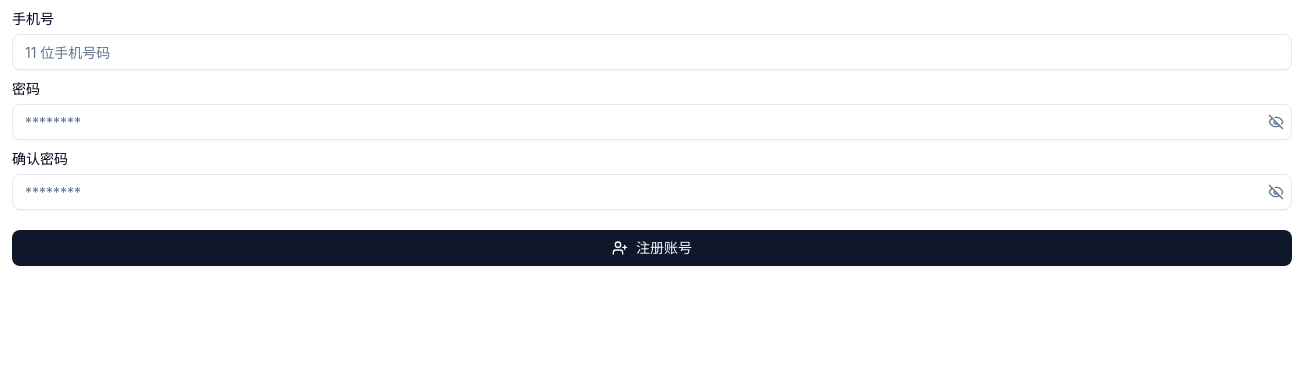
Test: SignUpForm › shows validation messages when submitting empty form
Click the button "注册账号".
click(652, 248)  # box [12,230,1292,266]
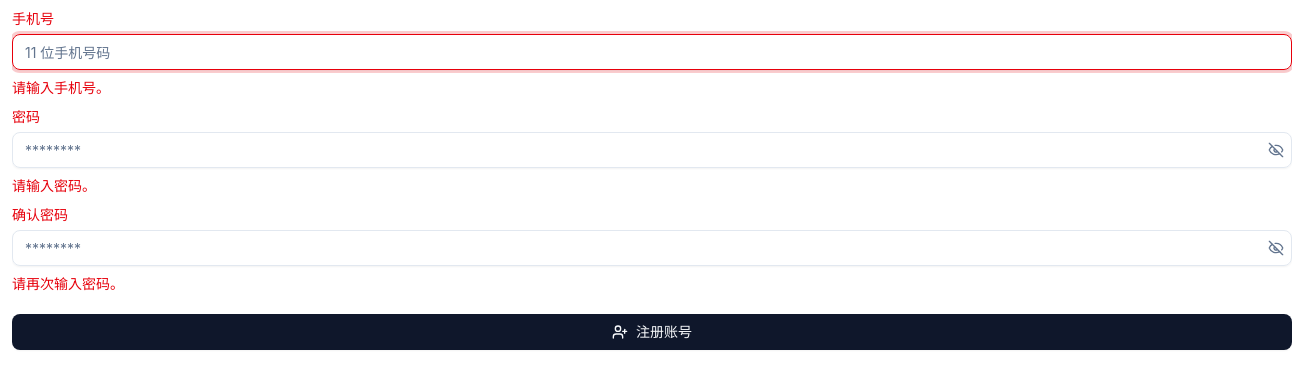
Now the text "请输入手机号。" is shown, box [12,79,110,96]
Now the text "请输入密码。" is shown, box [12,177,96,194]
Now the text "请再次输入密码。" is shown, box [12,275,124,292]
